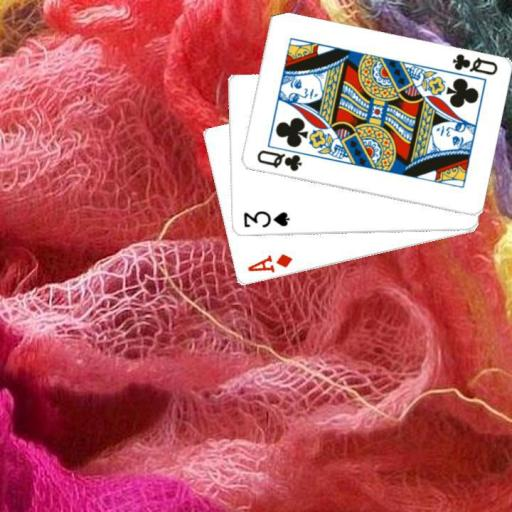3S: (240, 208, 291, 230)
AD: (244, 251, 294, 275)
QC: (253, 147, 304, 174), (449, 51, 499, 78)
